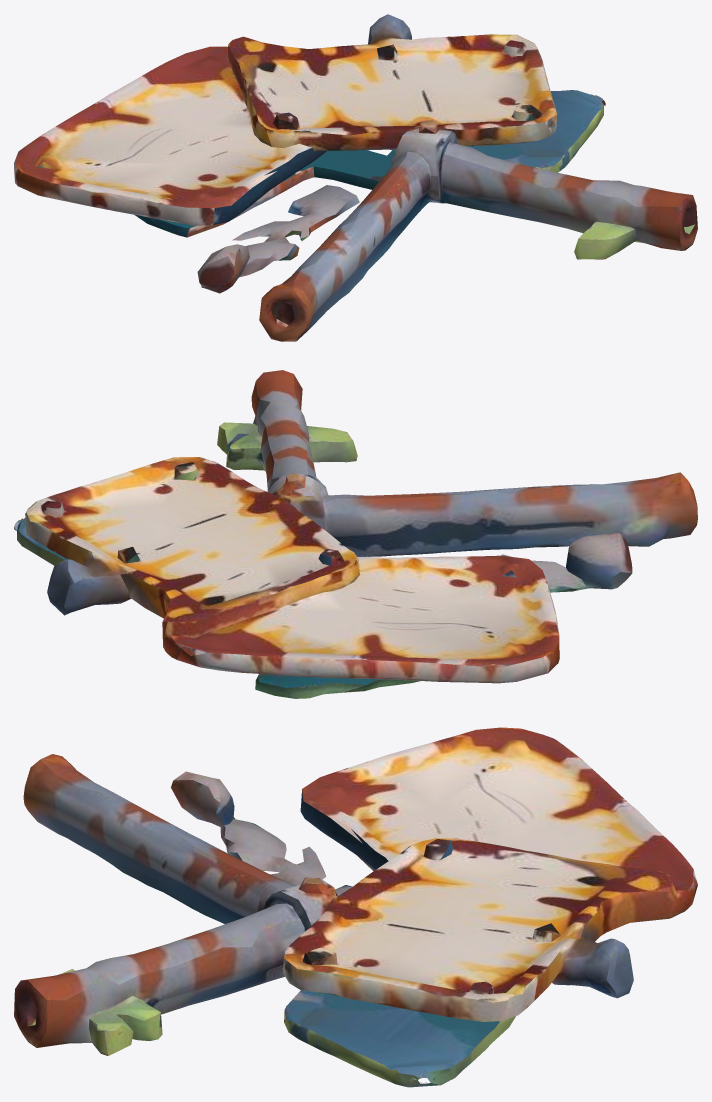
The model's file is ruin_sign.glb.
The picture shows the model from 3 angles, top to bottom: view 1: azimuth 30°, elevation 25°; view 2: azimuth 150°, elevation 25°; view 3: azimuth 270°, elevation 25°; orthographic projection. The views are drawn at different scales.
Visible parts, largest first — view 1: ruin_sign_s41; view 2: ruin_sign_s41; view 3: ruin_sign_s41.
Part boxes in pixels (x1,y1,x2,y2): ruin_sign_s41: (14, 14, 697, 341); ruin_sign_s41: (14, 370, 697, 698); ruin_sign_s41: (14, 727, 697, 1087).
Bounding box in the file's own units: 1 × 0.1274 × 0.9227.
1 material, 1 textured.
